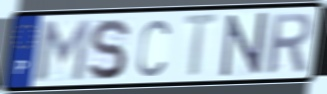C: (135, 17, 172, 79)
M: (35, 17, 93, 83)
N: (219, 10, 269, 79)
R: (265, 11, 314, 76)
S: (86, 16, 131, 82)
T: (181, 12, 223, 81)
